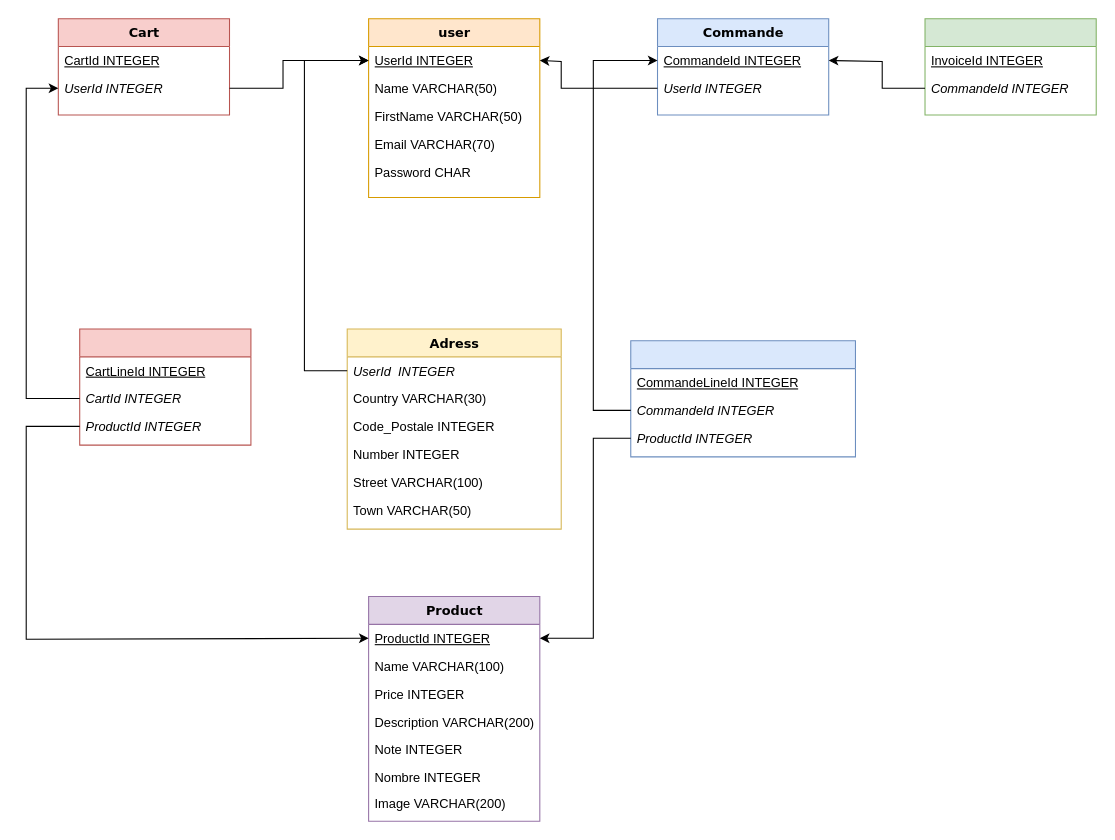
Some shapes in this 1115 by 840 pixel diagram are drawn without their labels. The shapes that lost their labels are listed below. From the top down, each one's box as (x1, y1, x2, y2) in pixels, then its label:
(924, 18, 1096, 115): Invoices
(79, 328, 251, 445): Cart_Items
(630, 340, 855, 457): Commande_Items
